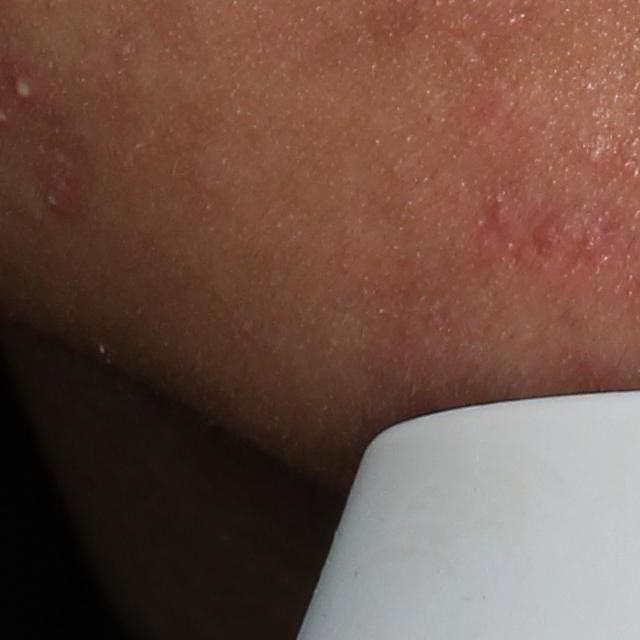pustule: (11, 75, 37, 104)
